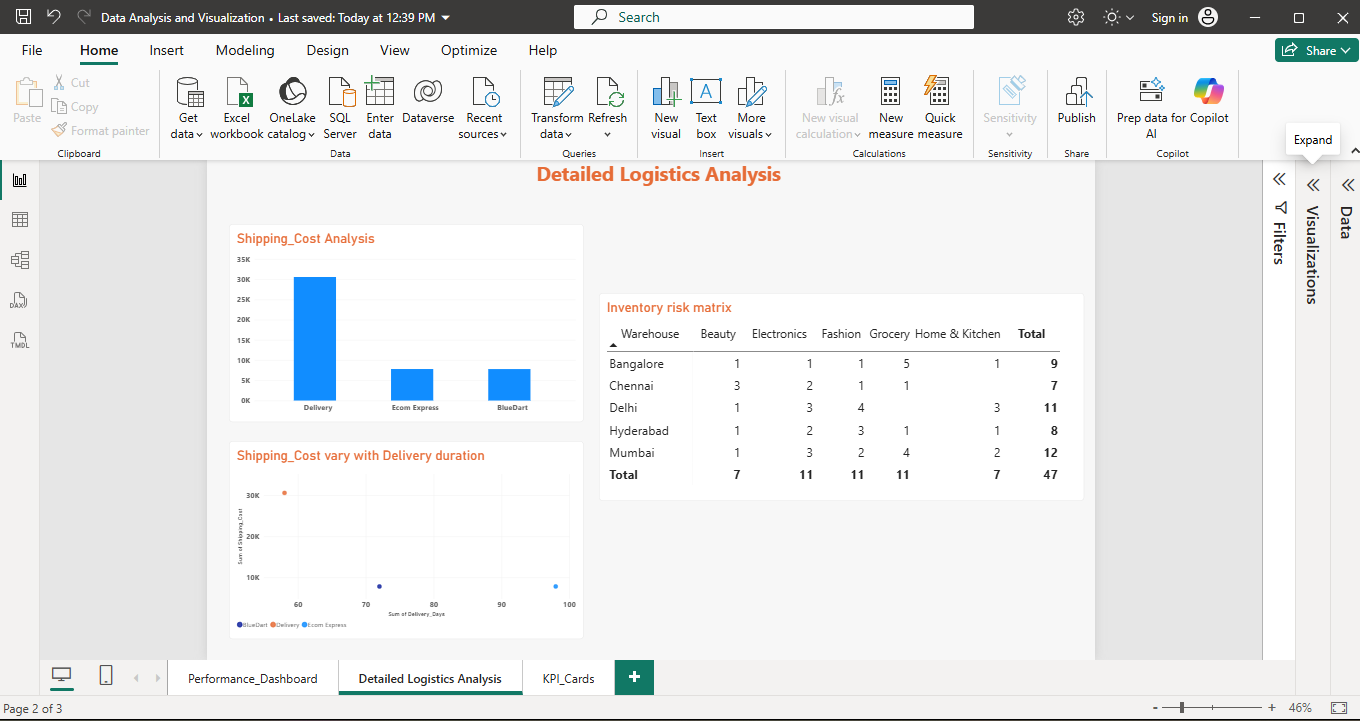

What the dashboard file says about the page in this screenshot:
{"tool":"powerbi","page":{"name":"Detailed Logistics Analysis","canvas":[1920,1080],"ordinal":1},"visuals":[{"type":"clusteredColumnChart","title":"Shipping_Cost Analysis","fields":{"Category":["ecommerce_logistics_week2.Delivery_Partner"],"Y":["Sum(ecommerce_logistics_week2.Shipping_Cost)"]},"box":[47.9,138.6,766,428.3],"z":0},{"type":"scatterChart","title":"Shipping_Cost vary with Delivery duration","fields":{"Series":["ecommerce_logistics_week2.Delivery_Partner"],"X":["Sum(ecommerce_logistics_week2.Delivery_Days)"],"Y":["Sum(ecommerce_logistics_week2.Shipping_Cost)"]},"box":[47.9,607.2,766,428],"z":1000},{"type":"textbox","box":[582,0,788.7,70.6],"z":2000},{"type":"pivotTable","title":"Inventory risk matrix","fields":{"Columns":["ecommerce_logistics_week2.Product_Category"],"Rows":["ecommerce_logistics_week2.Warehouse"],"Values":["Week 3.Reorder Alert Records"]},"box":[846.6,287.2,1048.2,448.5],"z":3000}]}

Visuals, with their boxes on the page's 1920x1080 design canvas (x1, y1, x2, y2). These are canvas units, not pixel positions in the 1360x721 screenshot, which may show the page scaled, cropped or inside an application window:
"Shipping_Cost Analysis" clusteredColumnChart: bbox(48, 139, 814, 567)
"Shipping_Cost vary with Delivery duration" scatterChart: bbox(48, 607, 814, 1035)
textbox: bbox(582, 0, 1371, 71)
"Inventory risk matrix" pivotTable: bbox(847, 287, 1895, 736)
